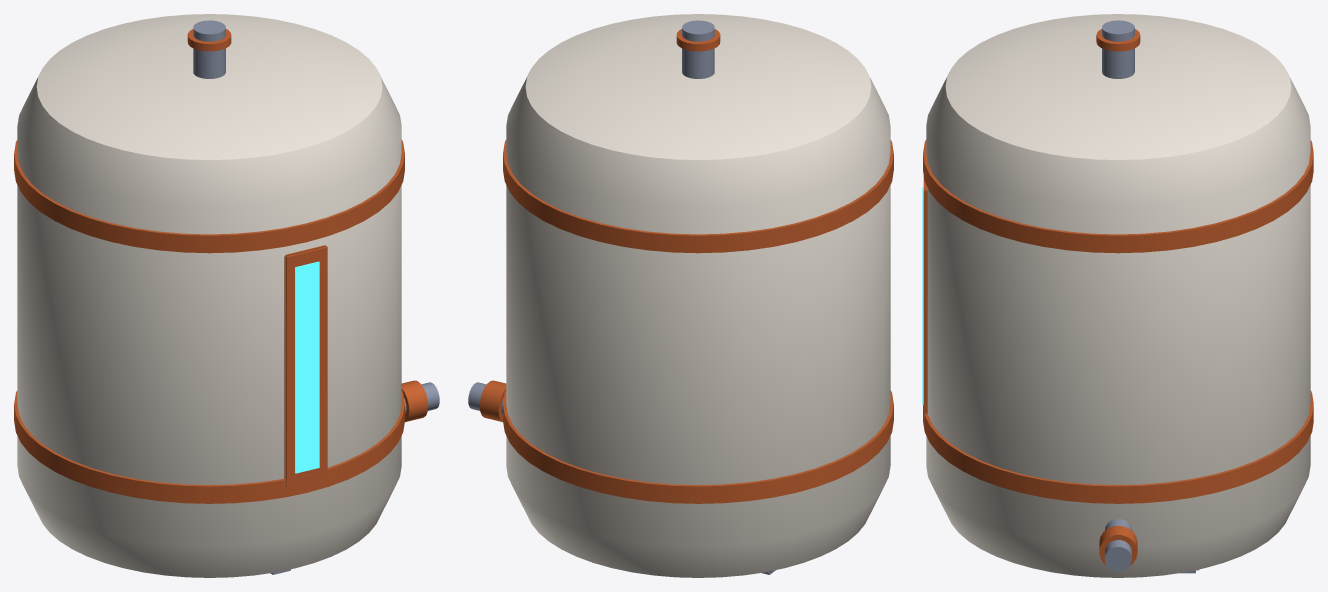
File: ice_tank.glb
3 views of the same model, side by side, from view 1: azimuth 30°, elevation 25°; view 2: azimuth 150°, elevation 25°; view 3: azimuth 270°, elevation 25° (orthographic).
Parts seen in each view (by area): view 1: Body_White, Trim_Rust, Gauge_Emissive, Steel; view 2: Body_White, Trim_Rust, Steel; view 3: Body_White, Trim_Rust, Steel.
Boxes of the visible parts, x1,y1,x2,y2 form: Body_White: (17,14,401,577); Trim_Rust: (14,29,428,503); Gauge_Emissive: (295,261,319,473); Steel: (193,20,439,574); Body_White: (506,14,890,577); Trim_Rust: (479,29,893,503); Steel: (468,20,775,574); Body_White: (926,14,1310,577); Trim_Rust: (923,29,1313,565); Steel: (1102,20,1199,573).
Size of the model in its own units: 0.826 by 0.99 by 0.7135.
